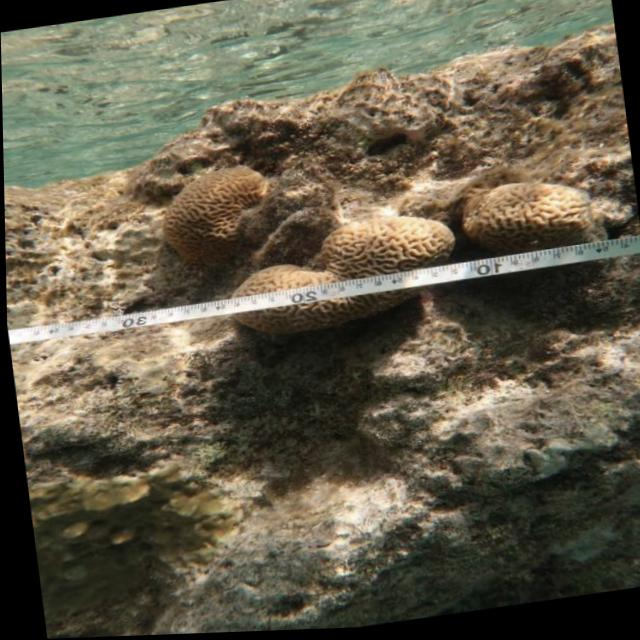Healthy Coral: (211, 208, 464, 346), (138, 161, 272, 275), (454, 168, 609, 258)
